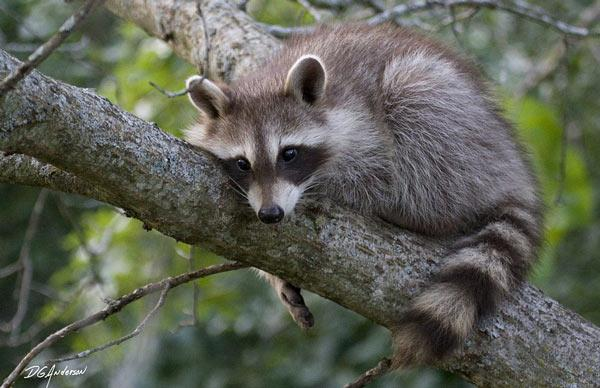raccoon: (181, 16, 551, 377)
